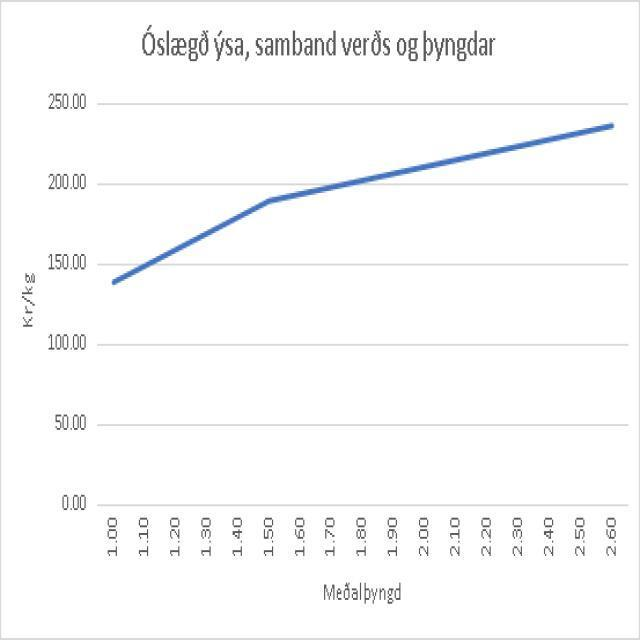axis: (89, 499, 635, 511), (87, 85, 97, 519)
line: (107, 118, 616, 289)
